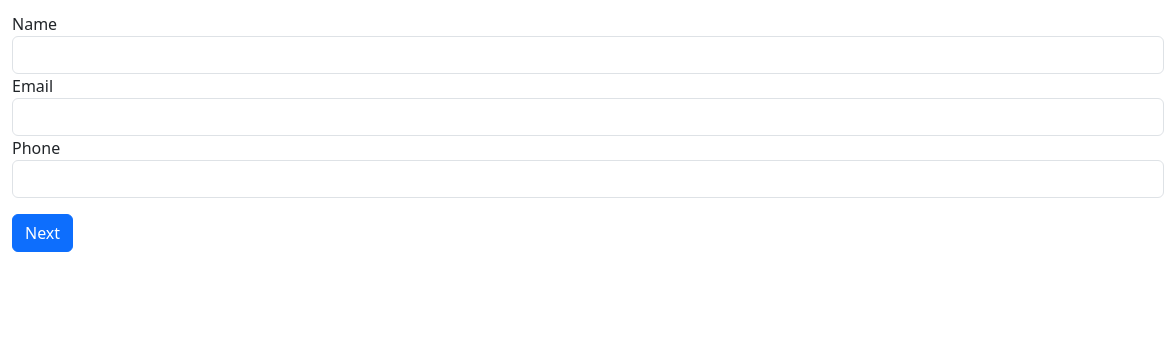
Test case: validates form inputs
The width and height of the screenshot is (1176, 344).
Click the button "Next".
click(43, 233)  # box [12,214,73,252]
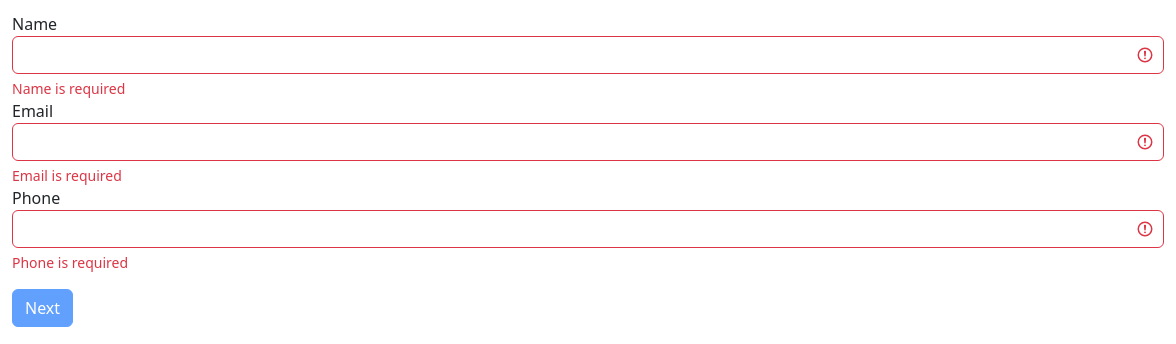
Now the text "Name is required" is shown 3 times, box [12,79,125,98]; [12,166,122,185]; [12,253,128,272]
